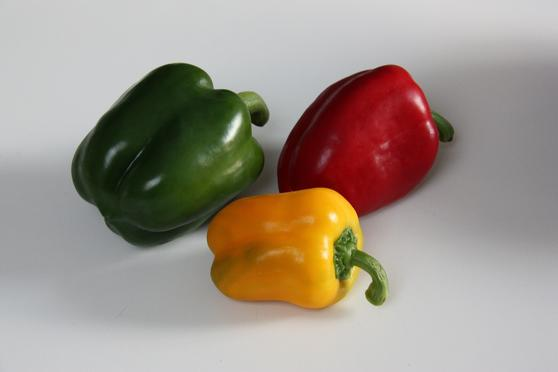pepper: (280, 65, 457, 208)
